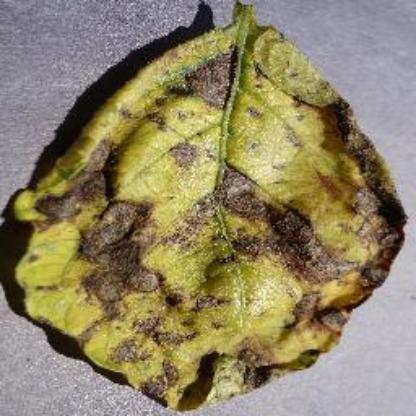Early-Blight: (10, 3, 402, 409)
